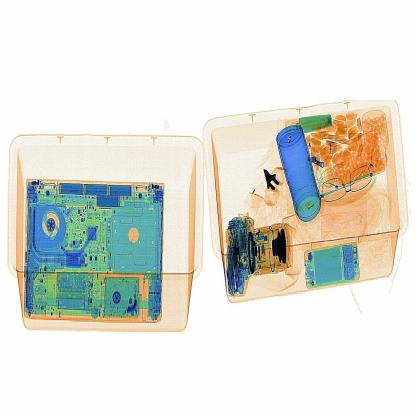gun: (257, 151, 291, 217)
